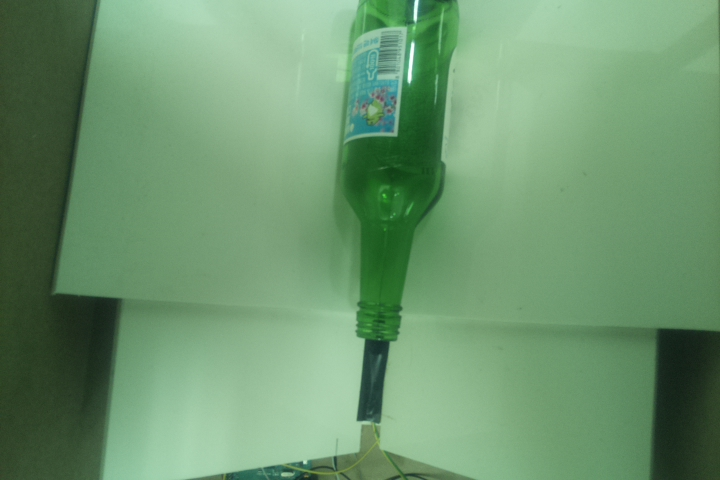soju: (334, 1, 466, 347)
